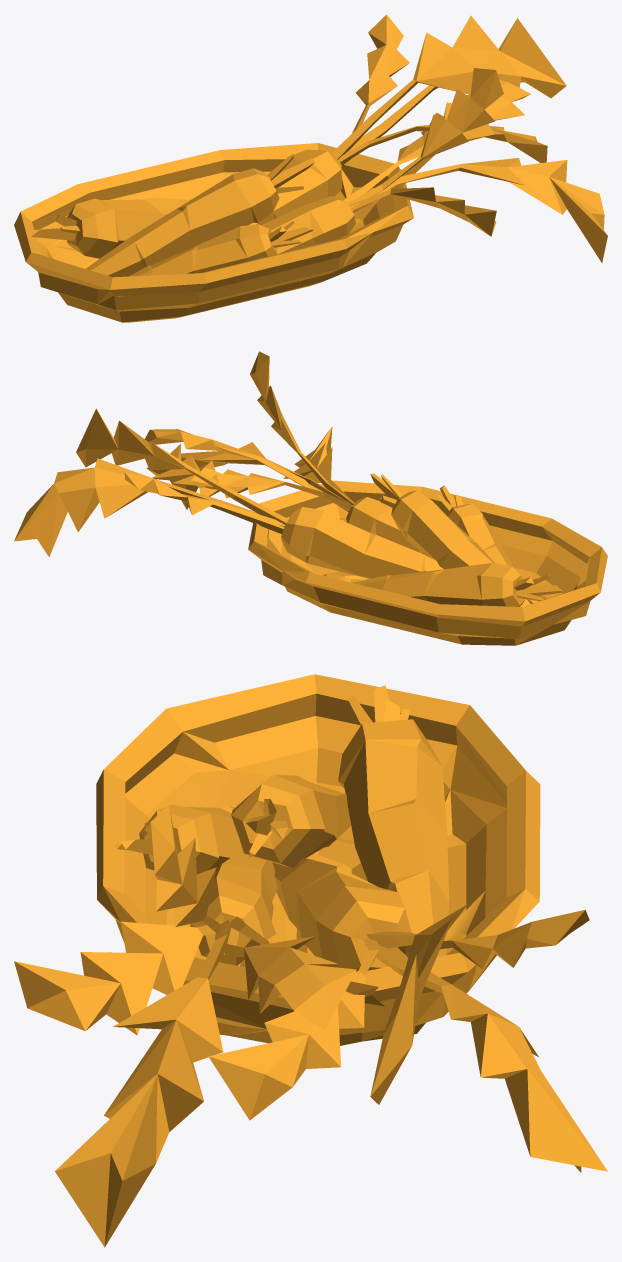
The model's file is SM_Crate_Wicker_Oval_Carrot_Fantasy.fbx.
3 renders of one model, top to bottom at view 1: azimuth 30°, elevation 25°; view 2: azimuth 150°, elevation 25°; view 3: azimuth 270°, elevation 25°, orthographic. The views are drawn at different scales.
Visible parts, largest first — view 1: crate-wicker-oval-carrot-fantasy; view 2: crate-wicker-oval-carrot-fantasy; view 3: crate-wicker-oval-carrot-fantasy.
Boxes of the visible parts, left/top/right/bottom form: crate-wicker-oval-carrot-fantasy: left=14, top=14, right=607, bottom=322; crate-wicker-oval-carrot-fantasy: left=14, top=351, right=607, bottom=645; crate-wicker-oval-carrot-fantasy: left=14, top=674, right=607, bottom=1247.
Bounding box in the file's own units: 0.8902 × 0.3146 × 0.4794.
